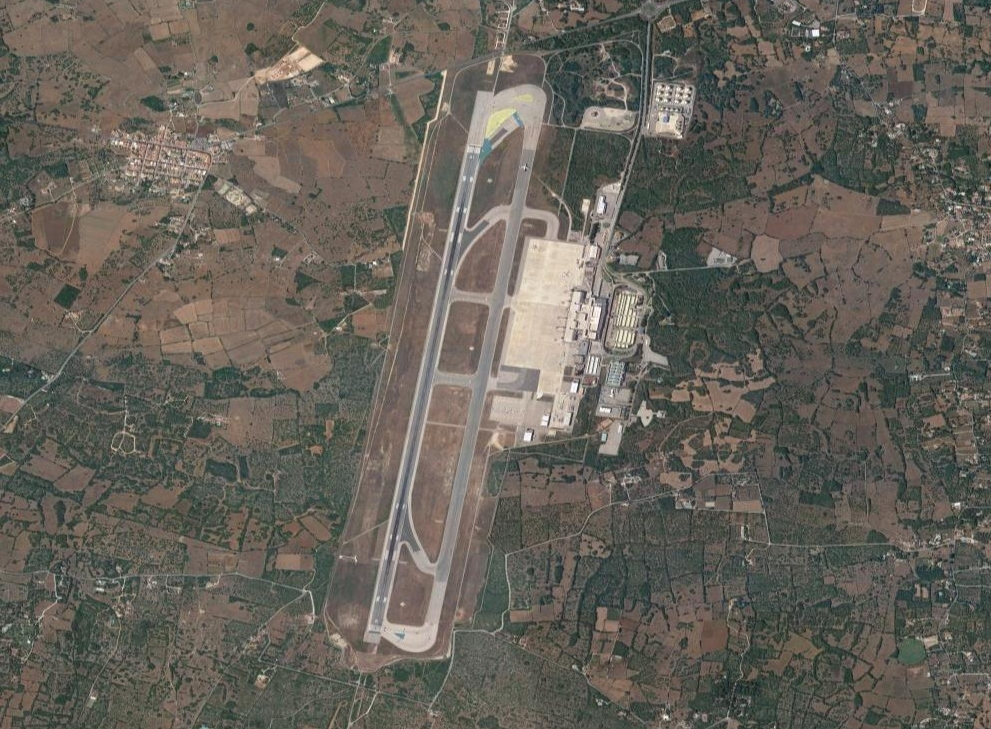airport: (360, 82, 602, 652)
